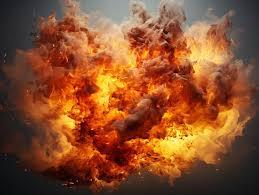fire: (58, 70, 238, 177)
